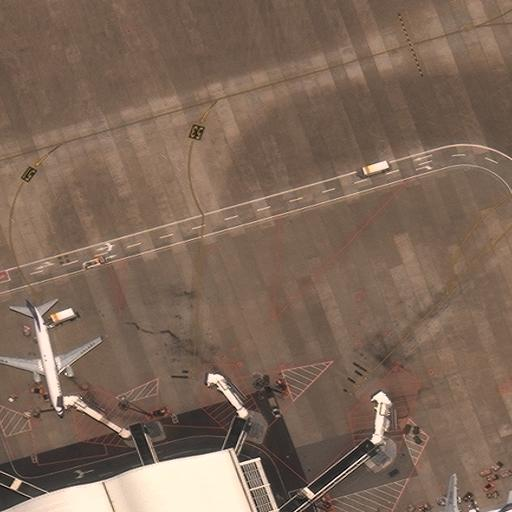Medium Civil Transport: (0, 299, 104, 418), (423, 473, 512, 511)
